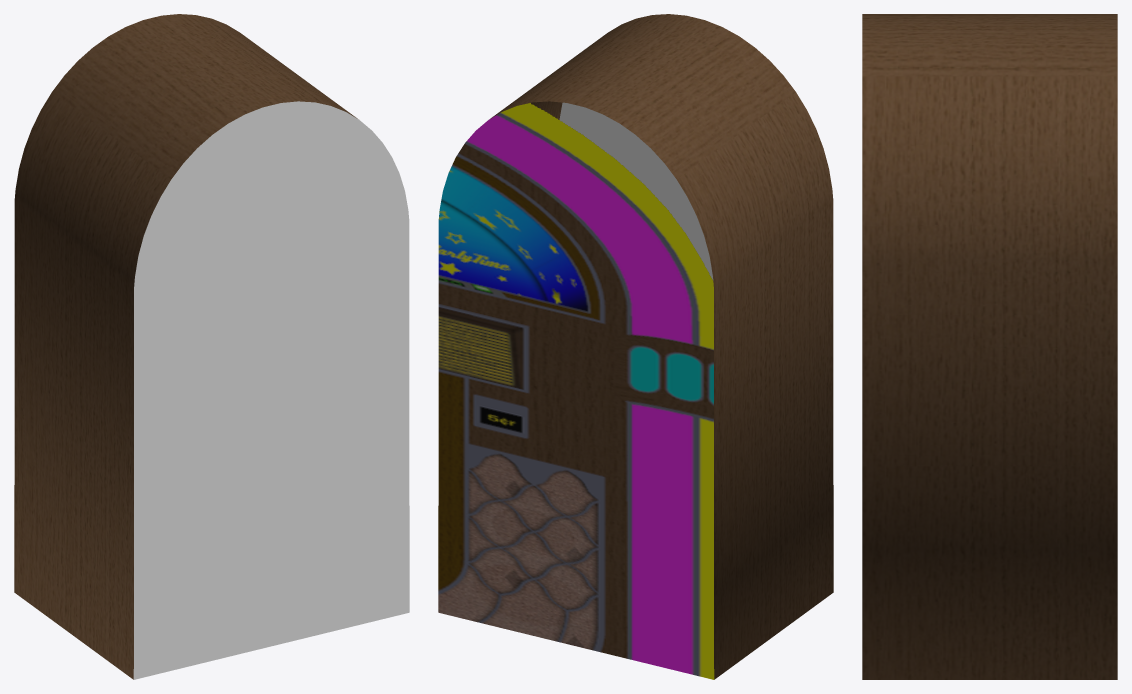
The model's file is Juke.dae.
3 views of the same model, side by side, from view 1: azimuth 30°, elevation 25°; view 2: azimuth 150°, elevation 25°; view 3: azimuth 270°, elevation 25° (orthographic). The views are drawn at different scales.
Parts seen in each view (by area): view 1: Jukebox; view 2: Jukebox; view 3: Jukebox.
Part boxes in pixels (x1,y1,x2,y2): Jukebox: (14,14,409,679); Jukebox: (438,14,833,679); Jukebox: (862,14,1117,679).
Size of the model in its own units: 8 by 6 by 15.
Materials: 3 (2 with a texture image).
